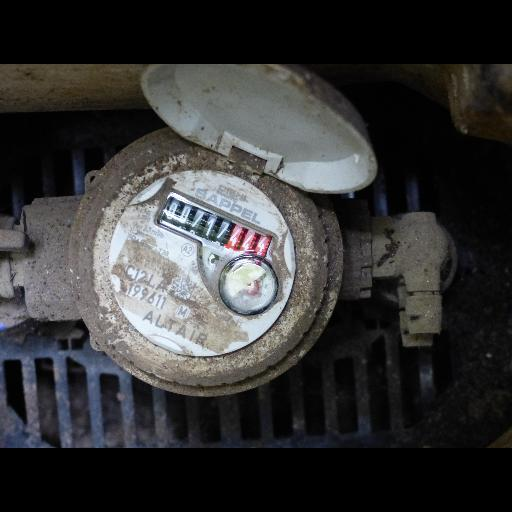0: (174, 202, 197, 231), (162, 197, 184, 226)
1: (199, 212, 222, 242)
4: (223, 222, 247, 252), (236, 228, 259, 257), (253, 232, 272, 258)
7: (210, 217, 234, 247), (186, 206, 209, 236)
border_water_meter_number: (152, 185, 281, 273)
